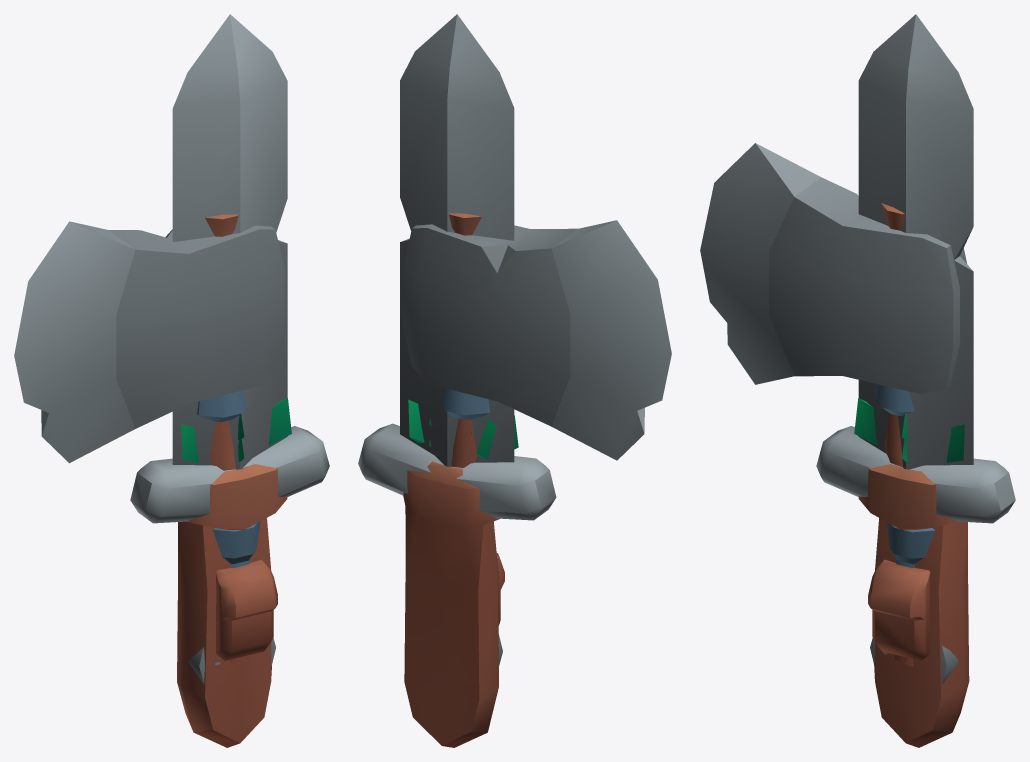
The model's file is adv_weapons.glb.
3 renders of one model, left to right at view 1: azimuth 30°, elevation 25°; view 2: azimuth 150°, elevation 25°; view 3: azimuth 330°, elevation 25°, orthographic.
Parts seen in each view (by area): view 1: axe_1handed, sword_1handed, quiver; view 2: axe_1handed, sword_1handed, quiver; view 3: axe_1handed, sword_1handed, quiver.
Boxes of the visible parts, box(x1,y1,x2,y2) form: axe_1handed: box(14, 214, 284, 664); sword_1handed: box(130, 14, 329, 683); quiver: box(177, 398, 291, 747); axe_1handed: box(403, 213, 671, 467); sword_1handed: box(358, 14, 556, 665); quiver: box(403, 399, 518, 747); axe_1handed: box(700, 143, 966, 666); sword_1handed: box(816, 14, 1015, 683); quiver: box(854, 398, 969, 747).
Size of the model in its own units: 0.8406 by 1.92 by 0.214.
Materials: 3 (3 with a texture image).
